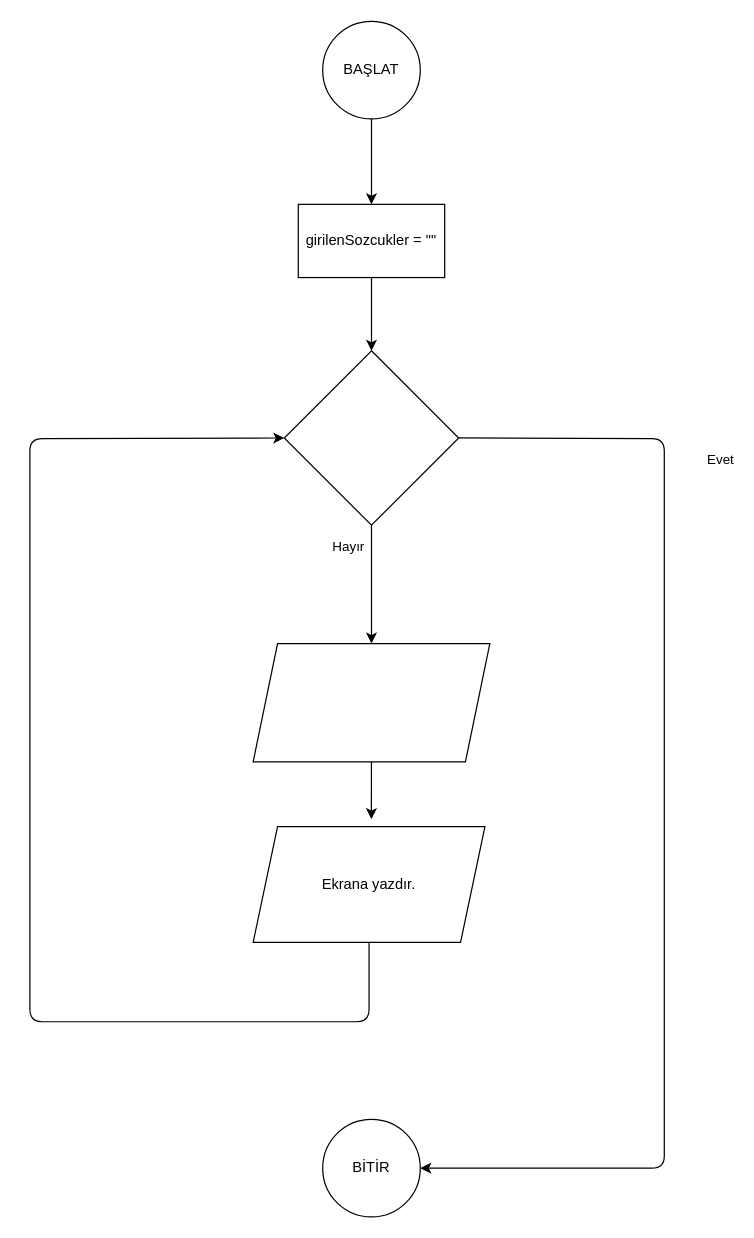
The diagram is 754 pixels wide and 1238 high, and some of its shapes have lost their labels. The centre of each missing label's shape, as x and y in pixels:
girilenSozcukler=EXIT: the point at 371,437
Karakter sayısını hesapla.: the point at 371,702
